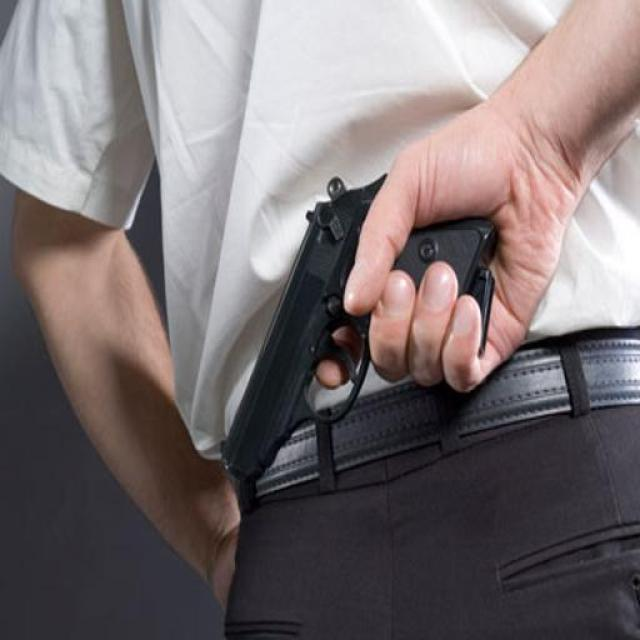pistol: (215, 165, 502, 487)
